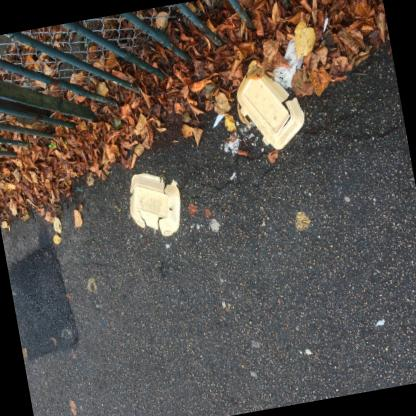Waste: (236, 70, 304, 148), (129, 171, 180, 235), (272, 37, 303, 88)
